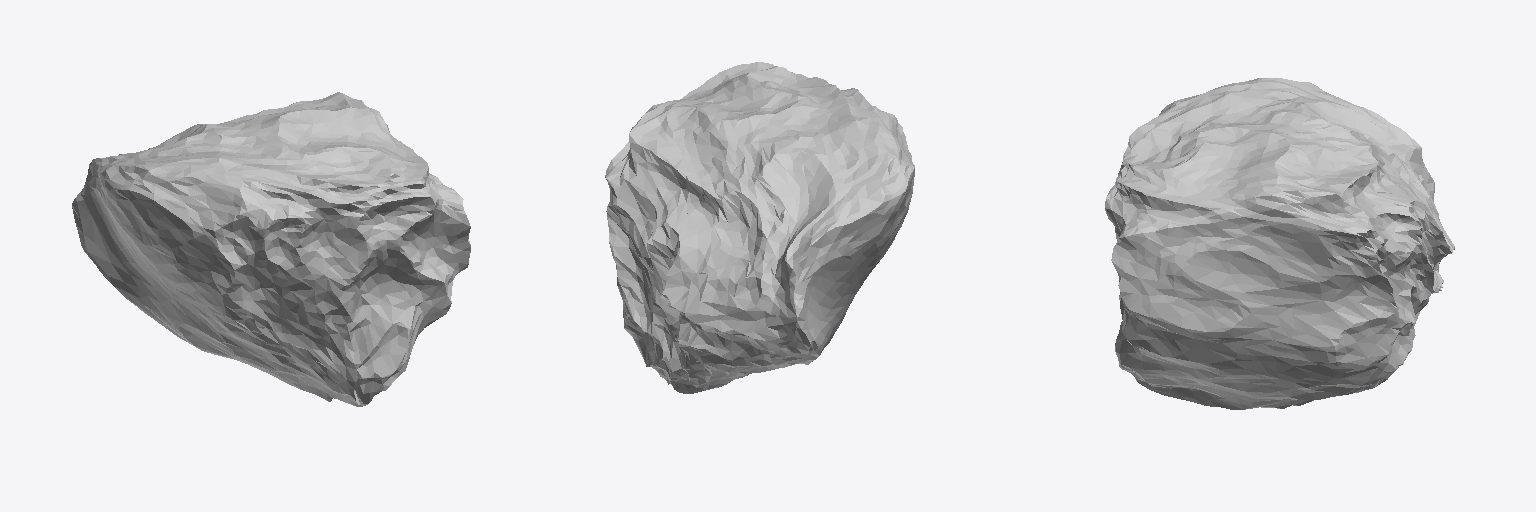
File: meteor.obj
3 views of the same model, side by side, from view 1: azimuth 30°, elevation 25°; view 2: azimuth 150°, elevation 25°; view 3: azimuth 270°, elevation 25° (orthographic).
Parts seen in each view (by area): view 1: Landscape; view 2: Landscape; view 3: Landscape.
Part boxes in pixels (x1,y1,x2,y2): Landscape: (72, 92, 470, 406); Landscape: (605, 62, 914, 393); Landscape: (1105, 78, 1454, 409).
Size of the model in its own units: 261 by 238 by 286.